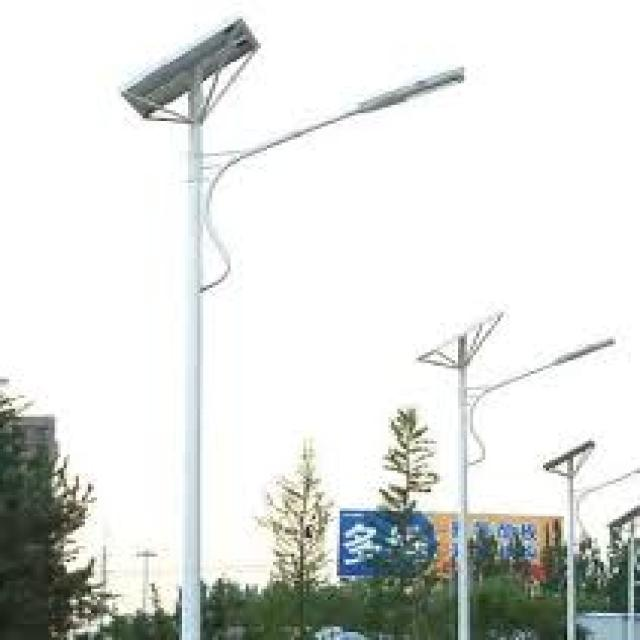Street Light: (173, 62, 467, 640), (458, 336, 619, 640)
